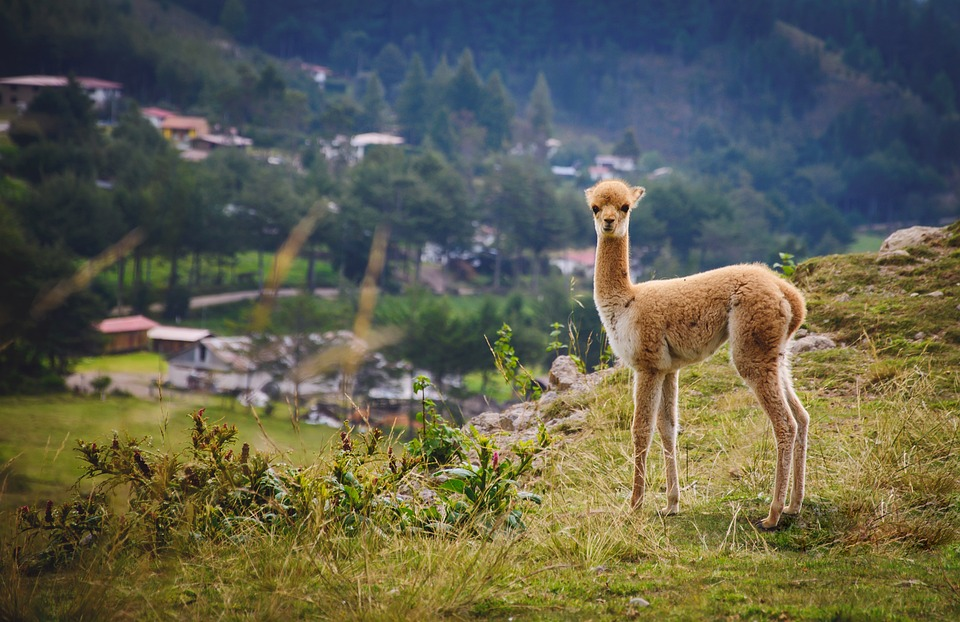eye: (587, 197, 607, 219), (619, 202, 638, 217)
mouth: (598, 217, 619, 236)
